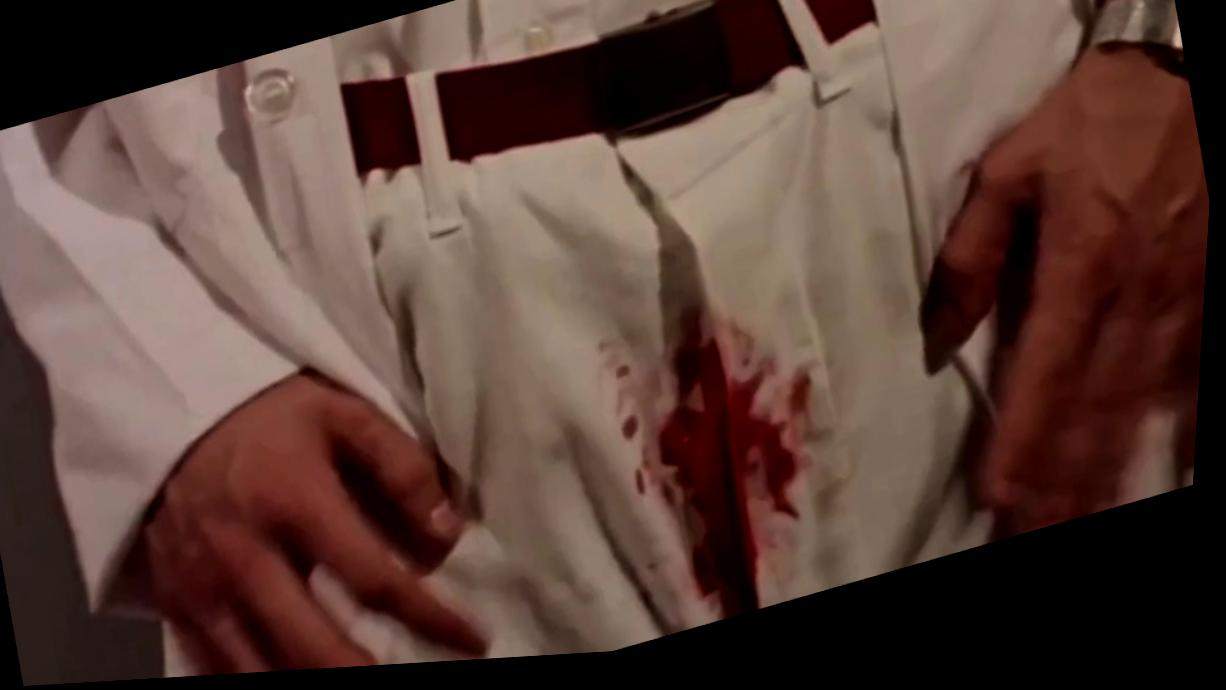Fire: (616, 250, 833, 635)
